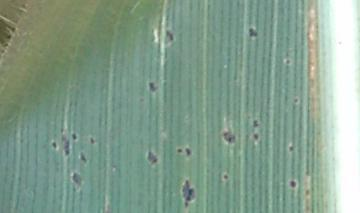tarspot: (183, 178, 195, 208), (222, 129, 236, 143), (71, 170, 82, 186), (146, 150, 158, 164), (246, 25, 258, 37), (77, 150, 88, 163), (63, 140, 71, 157), (147, 80, 158, 92), (288, 176, 298, 188), (165, 28, 174, 41), (220, 171, 230, 182), (184, 144, 192, 157), (69, 131, 78, 141), (286, 142, 295, 152), (302, 186, 310, 197), (251, 132, 260, 141), (50, 139, 58, 149), (252, 118, 259, 128), (292, 94, 299, 104), (175, 146, 183, 154), (283, 57, 291, 65), (89, 135, 96, 144)
